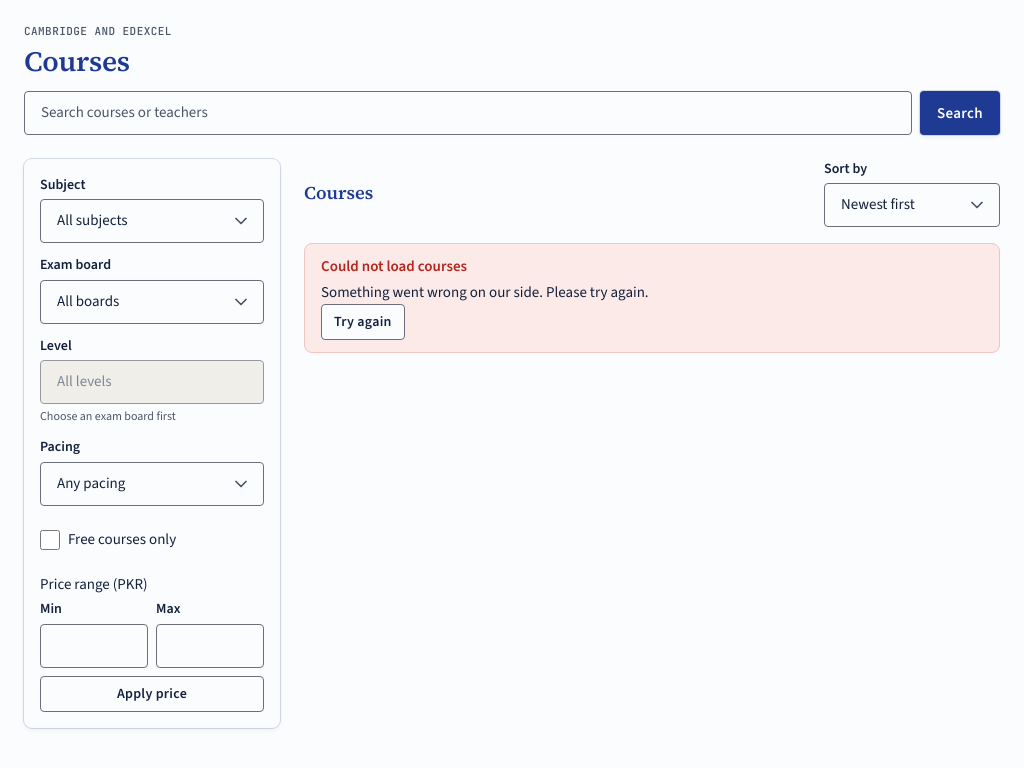
Test: CatalogueBrowser › shows a load failure with a retry
expect the message shows "Could not load courses": met, box x1=321 y1=256 x2=467 y2=276
Click the button "Try again": (363, 322) x1=321 y1=304 x2=405 y2=340
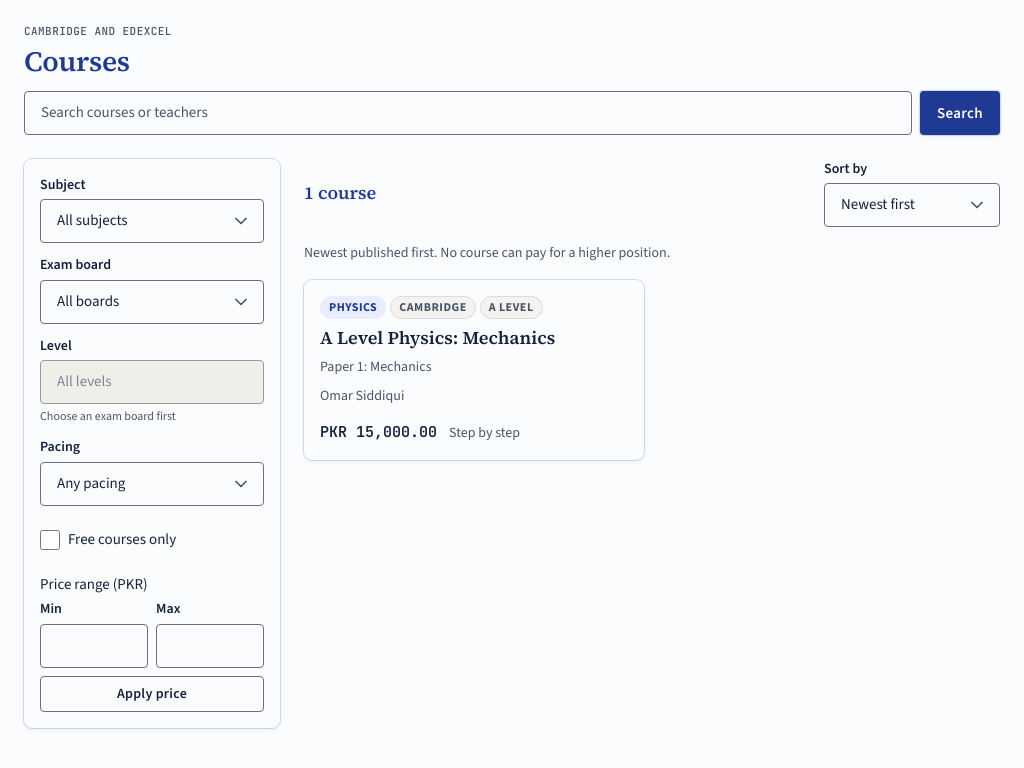
expect the heading "1 course" is shown: met, box x1=304 y1=182 x2=376 y2=204
